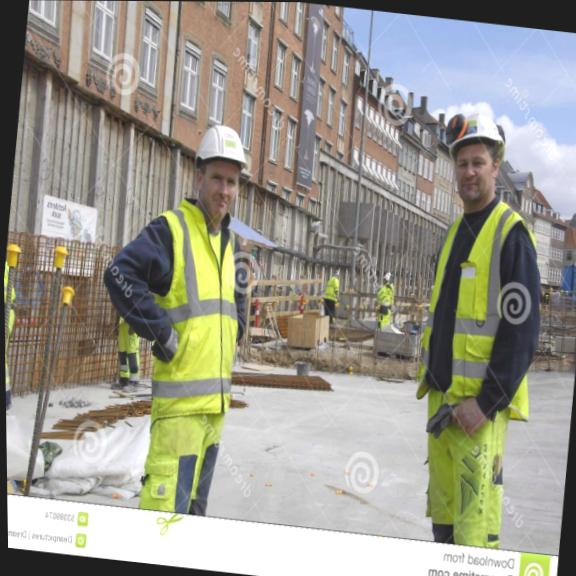safety_vest: (405, 193, 556, 426), (133, 198, 263, 420)
